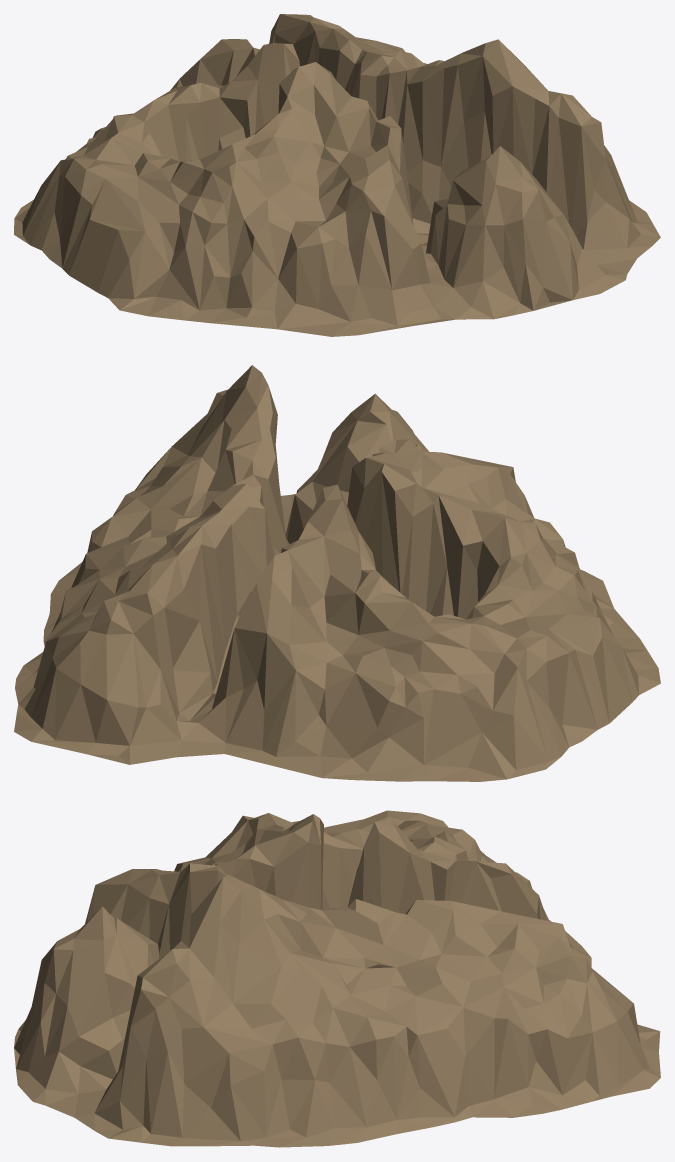
File: SmallTerrain06.fbx
3 views of the same model, one above another, from view 1: azimuth 30°, elevation 25°; view 2: azimuth 150°, elevation 25°; view 3: azimuth 270°, elevation 25° (orthographic). The views are drawn at different scales.
Parts seen in each view (by area): view 1: SmallTerrain06; view 2: SmallTerrain06; view 3: SmallTerrain06.
Part boxes in pixels (x1,y1,x2,y2): SmallTerrain06: (14, 14, 660, 336); SmallTerrain06: (14, 365, 660, 781); SmallTerrain06: (14, 810, 660, 1147).
Size of the model in its own units: 42.92 by 15.41 by 44.25.
